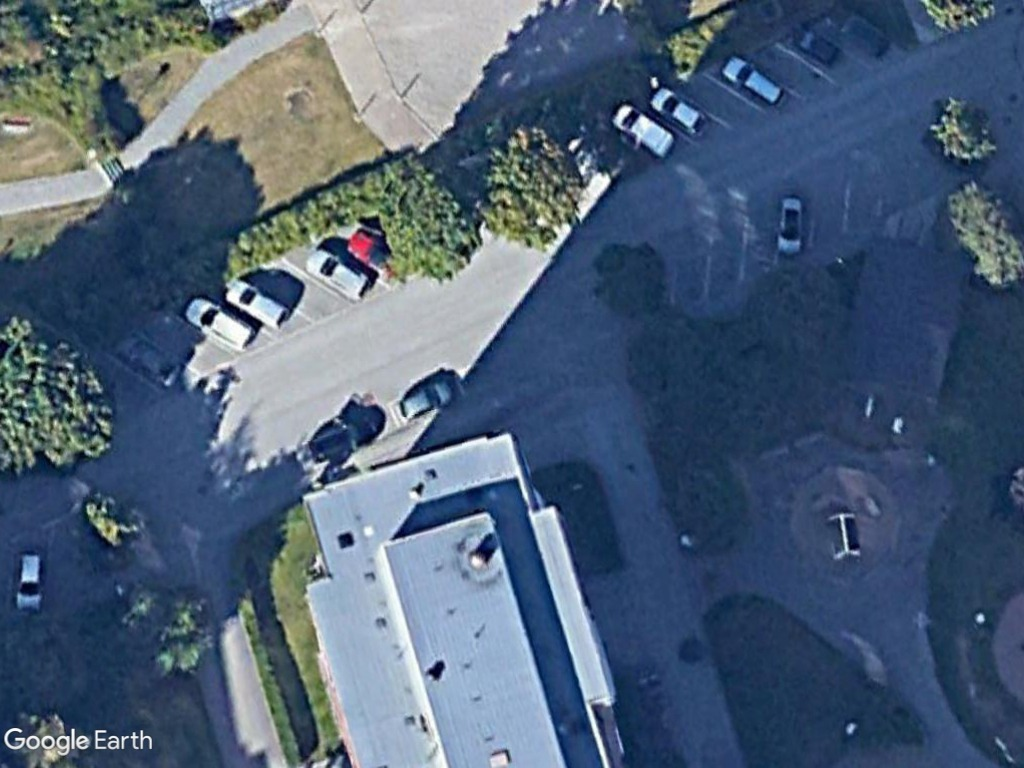car: (303, 246, 376, 304), (720, 51, 790, 110), (226, 275, 294, 332), (648, 84, 712, 139), (393, 375, 458, 424), (14, 547, 47, 615), (773, 191, 804, 259)
van: (180, 291, 261, 353), (612, 99, 679, 159)
